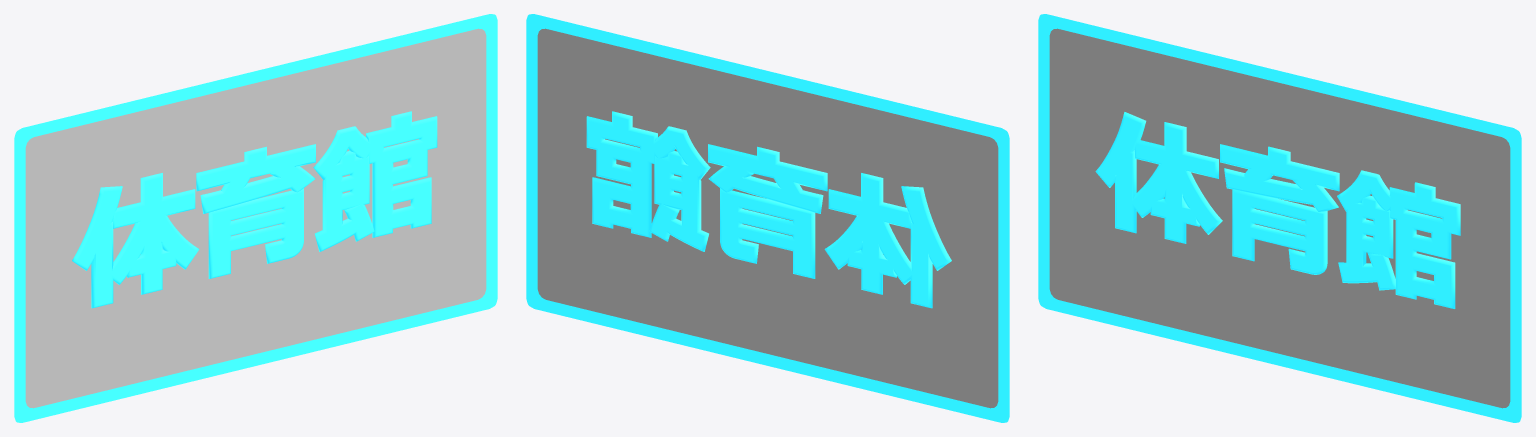
Rendered from TextPlate3.gltf.
3 renders of one model, left to right at view 1: azimuth 30°, elevation 25°; view 2: azimuth 150°, elevation 25°; view 3: azimuth 330°, elevation 25°, orthographic.
Visible parts, largest first — view 1: 平面, 体育館; view 2: 平面, 体育館; view 3: 平面, 体育館.
Boxes of the visible parts, x1,y1,x2,y2 form: 平面: [14, 14, 497, 422]; 体育館: [72, 111, 437, 308]; 平面: [526, 14, 1009, 422]; 体育館: [586, 111, 951, 308]; 平面: [1038, 14, 1521, 422]; 体育館: [1095, 112, 1460, 308].
Bounding box in the file's own units: 2.65 × 1.55 × 0.03.
